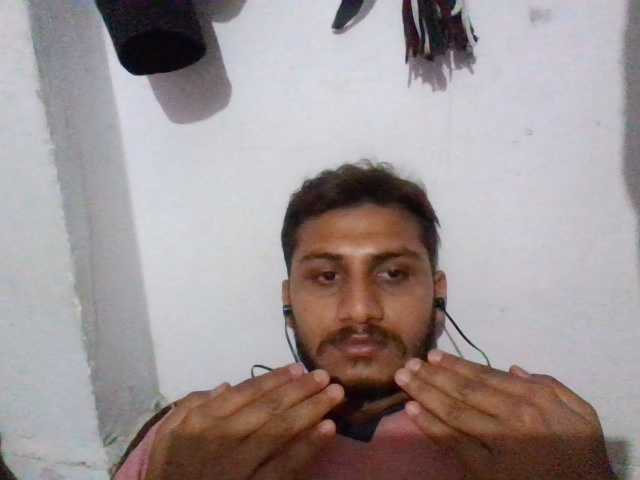Thanks: (124, 344, 616, 480)
